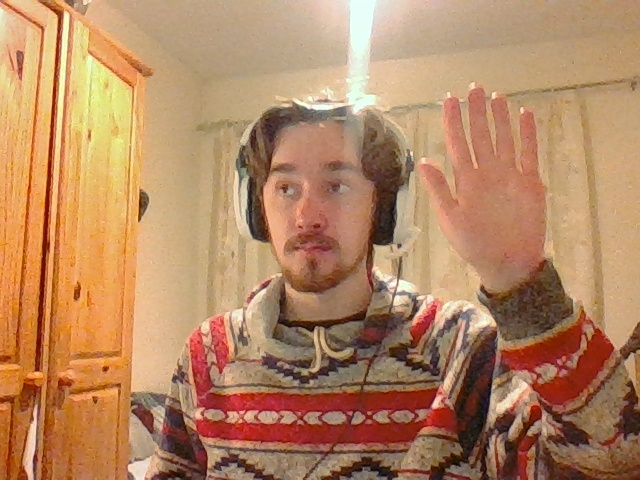hello: (417, 83, 548, 282)
